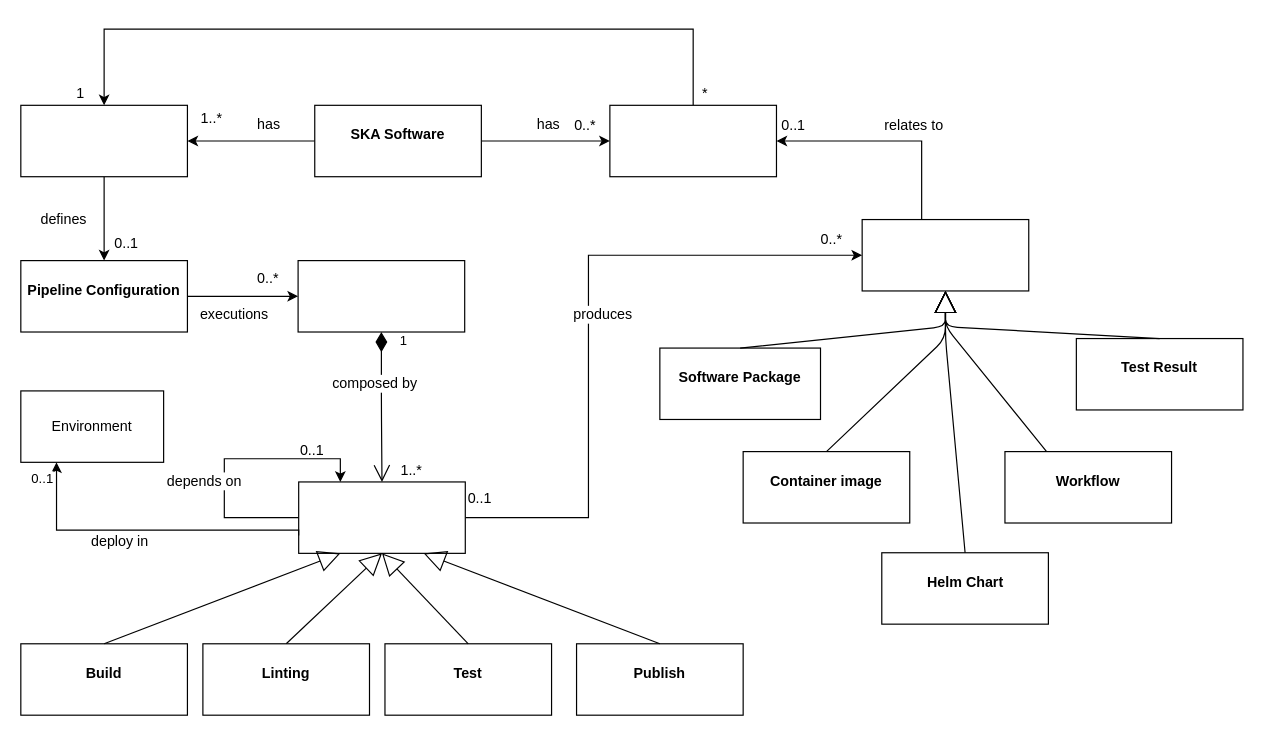
This 1264x737 diagram has some shape labels left out. The shapes that lost their labels are listed below. From the top down, each one's box as (x1, y1, x2, y2) in pixels, then its label:
(20, 104, 187, 177): Git Revision
(609, 104, 776, 177): Release
(861, 218, 1029, 291): Artifact
(297, 259, 465, 332): Pipeline
(298, 481, 465, 553): Job
